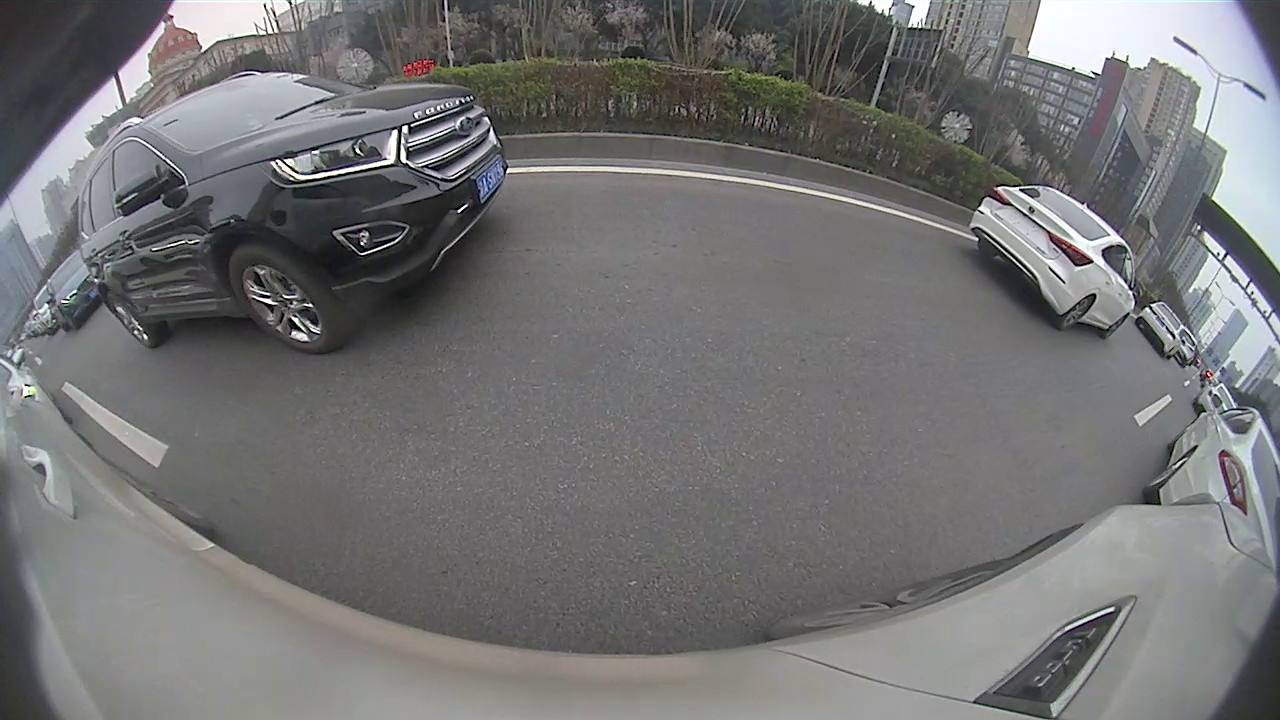car: (76, 71, 509, 354), (967, 183, 1143, 341), (1140, 394, 1279, 584), (43, 250, 105, 332), (1137, 303, 1189, 363)
front: (225, 252, 338, 354)
rear: (103, 294, 153, 350), (1059, 294, 1094, 330)
